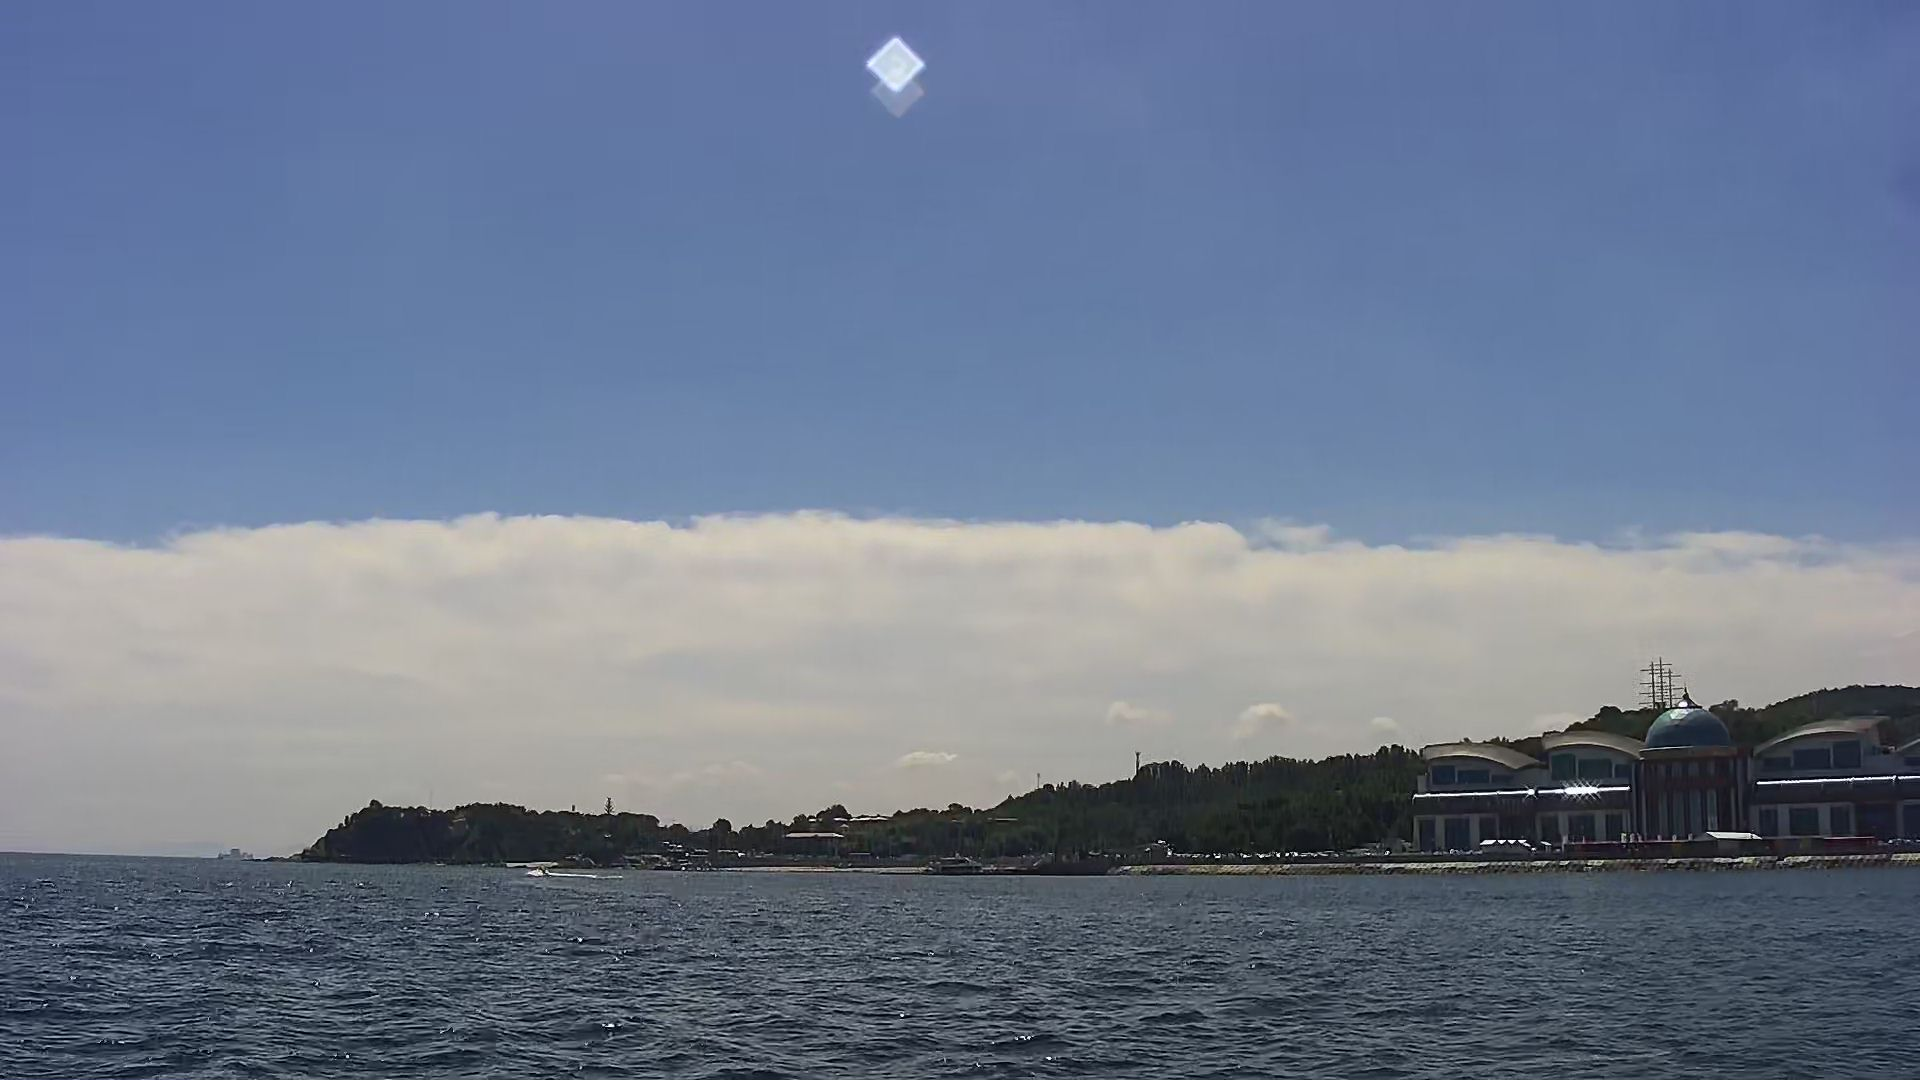boat: (1005, 833, 1120, 880), (918, 847, 989, 884)
